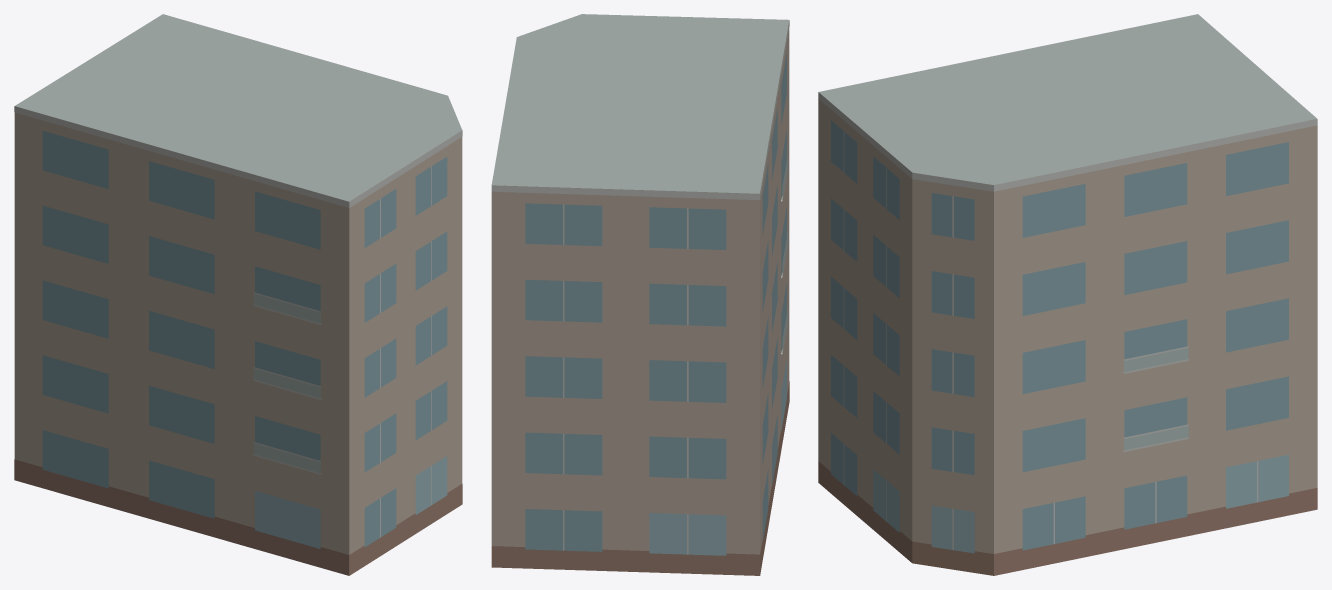
File: survey-upis-32892257.glb
The picture shows the model from 3 angles, left to right: view 1: azimuth 30°, elevation 25°; view 2: azimuth 150°, elevation 25°; view 3: azimuth 270°, elevation 25°; orthographic projection. The views are drawn at different scales.
Parts seen in each view (by area): view 1: survey-upis-32892257.tmp; view 2: survey-upis-32892257.tmp; view 3: survey-upis-32892257.tmp.
Boxes of the visible parts, bbox=[...] form: survey-upis-32892257.tmp: bbox=[14, 14, 462, 575]; survey-upis-32892257.tmp: bbox=[491, 14, 789, 575]; survey-upis-32892257.tmp: bbox=[818, 14, 1317, 575].
Bounding box in the file's own units: 13.66 × 14.53 × 16.83.
